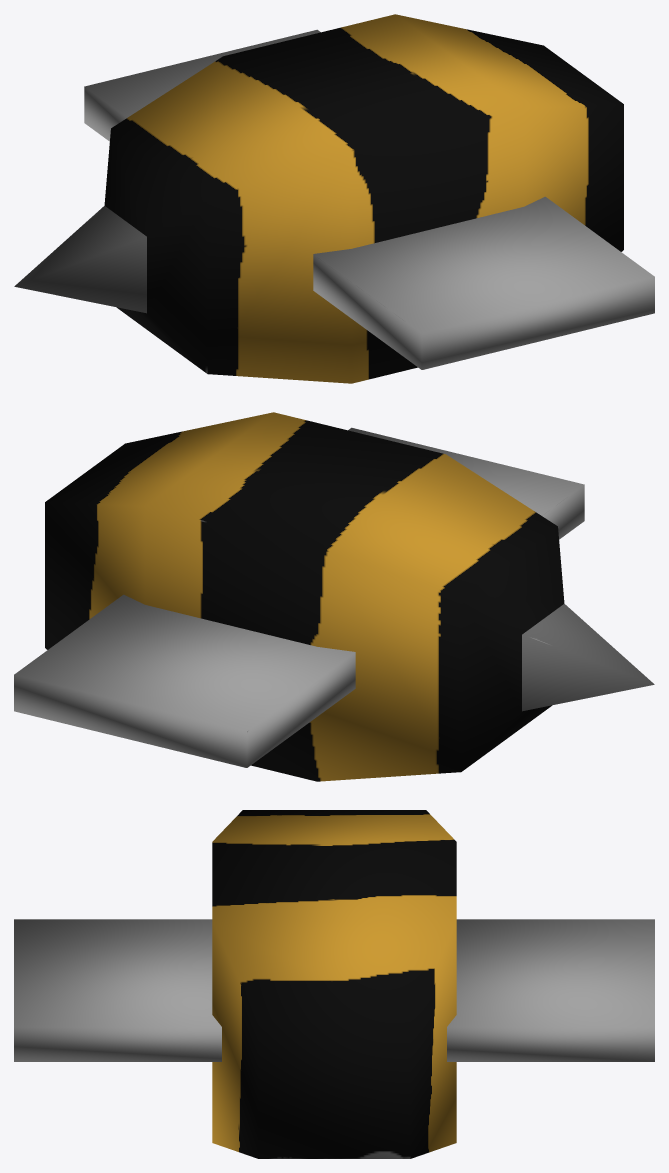
Rendered from bee.glb.
The picture shows the model from 3 angles, top to bottom: view 1: azimuth 30°, elevation 25°; view 2: azimuth 150°, elevation 25°; view 3: azimuth 270°, elevation 25°; orthographic projection. The views are drawn at different scales.
Parts seen in each view (by area): view 1: Cube; view 2: Cube; view 3: Cube.
Part boxes in pixels (<box>): Cube: <box>14,14,654,383</box>; Cube: <box>14,412,654,781</box>; Cube: <box>14,810,654,1158</box>.
Size of the model in its own units: 9.04 by 3.53 by 9.27.
Materials: 1 (1 with a texture image).
